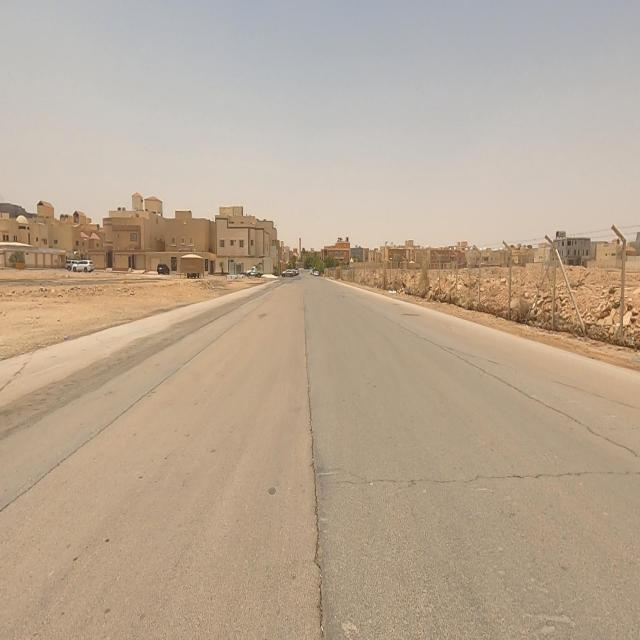debris: (372, 266, 410, 318)
